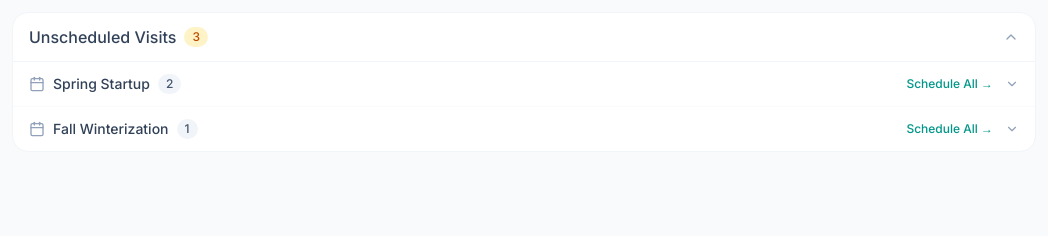
Test: UnscheduledVisitsQueue › expands group to show individual jobs
The image size is (1048, 236).
// Click the Spring Startup group to expand
Click the button with test id "unscheduled-toggle-spring_startup" at [101, 84], box [13,62,1035,106]
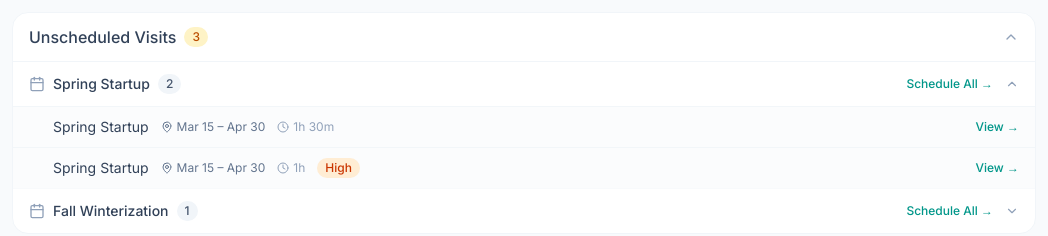
Expected: the link with test id "unscheduled-job-j1" is shown, [13,106,1035,147]
Expected: the link with test id "unscheduled-job-j2" is shown, [13,147,1035,188]
